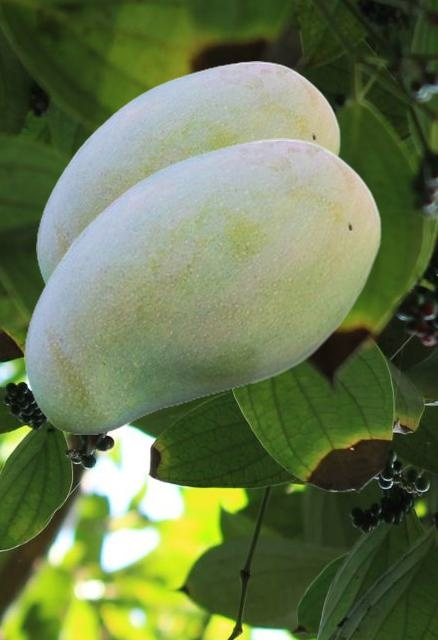green_mango: (24, 138, 381, 433), (36, 61, 340, 286)
